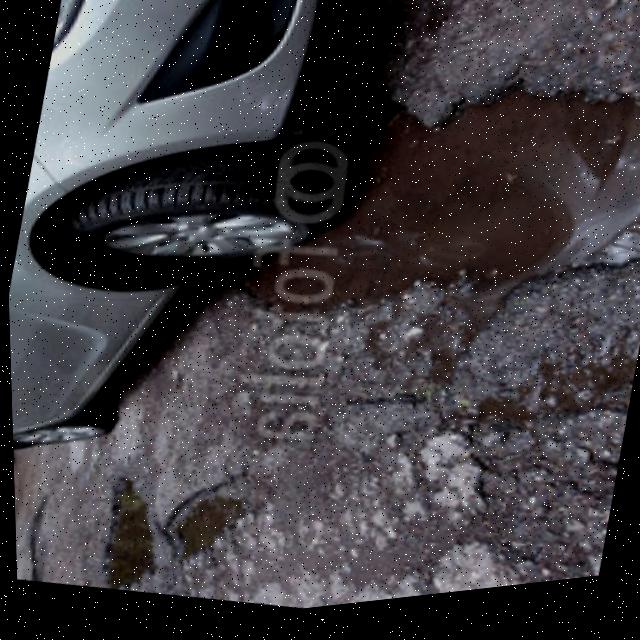Pothole: (290, 48, 640, 368), (84, 470, 250, 611)
